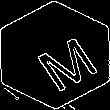M_NW: (18, 22, 92, 88)
